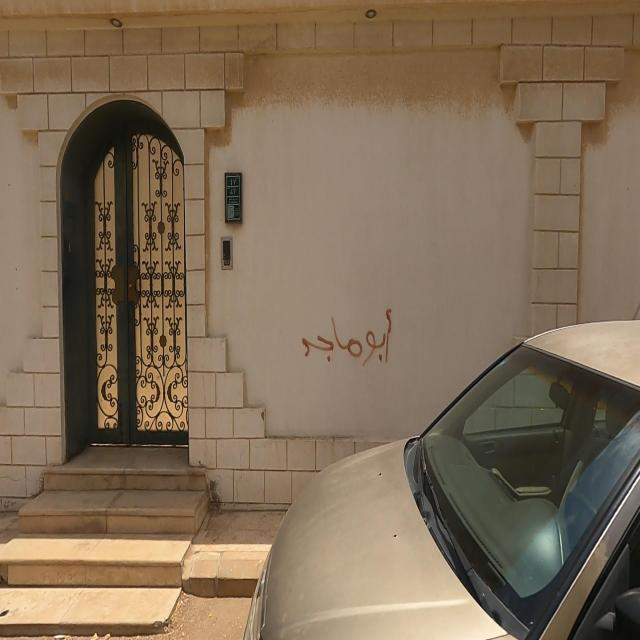Graffiti: (303, 307, 395, 365)
